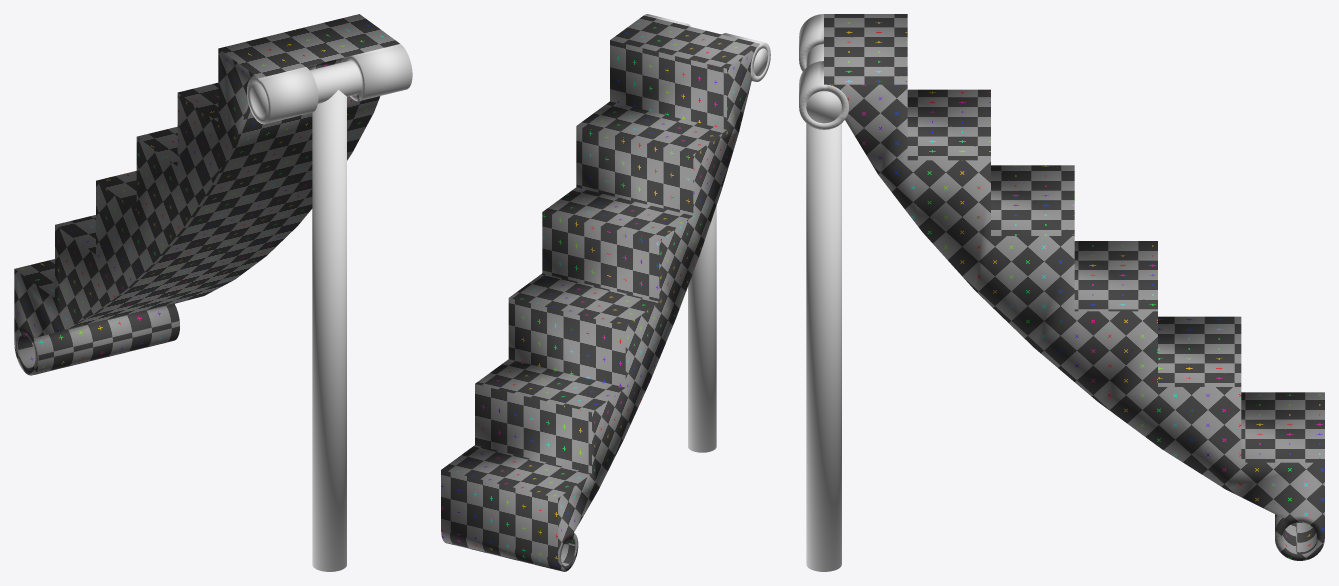
3 renders of one model, left to right at view 1: azimuth 30°, elevation 25°; view 2: azimuth 150°, elevation 25°; view 3: azimuth 270°, elevation 25°, orthographic. The views are drawn at different scales.
Parts seen in each view (by area): view 1: Cube.001; view 2: Cube.001; view 3: Cube.001.
Part boxes in pixels (x1,y1,x2,y2): Cube.001: [14, 14, 412, 571]; Cube.001: [441, 14, 770, 571]; Cube.001: [799, 14, 1324, 571].
Bounding box in the file's own units: 2 × 6.81 × 6.3.
Materials: 4 (1 with a texture image).
